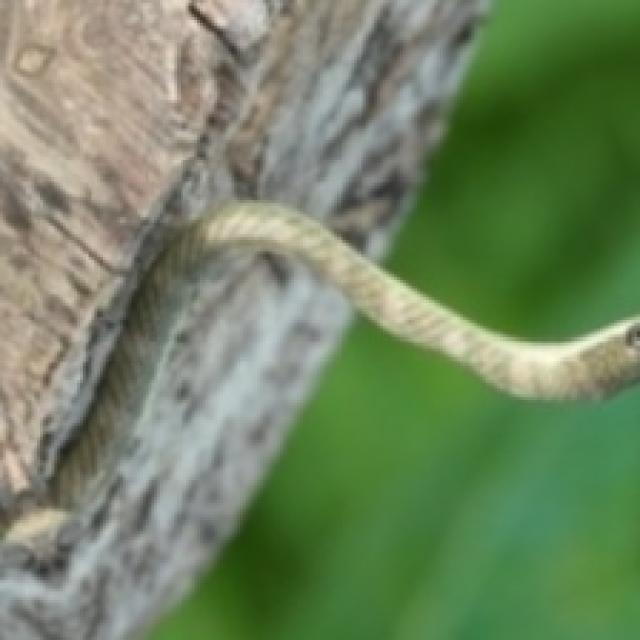paradise tree snake: (0, 200, 637, 637), (146, 317, 637, 637), (386, 0, 637, 337)
